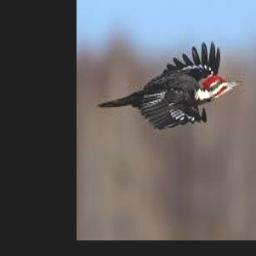Woodpecker: (98, 41, 243, 130)
